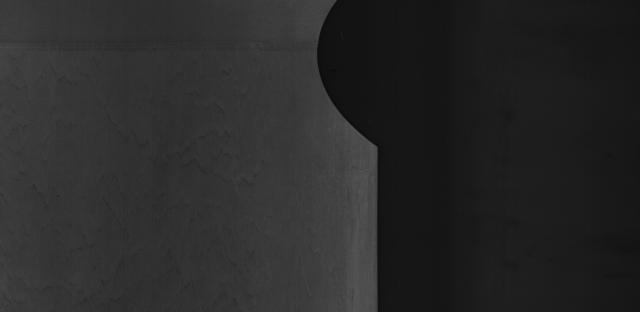crescent_gap: (306, 1, 390, 161)
welding_line: (0, 40, 338, 60)
